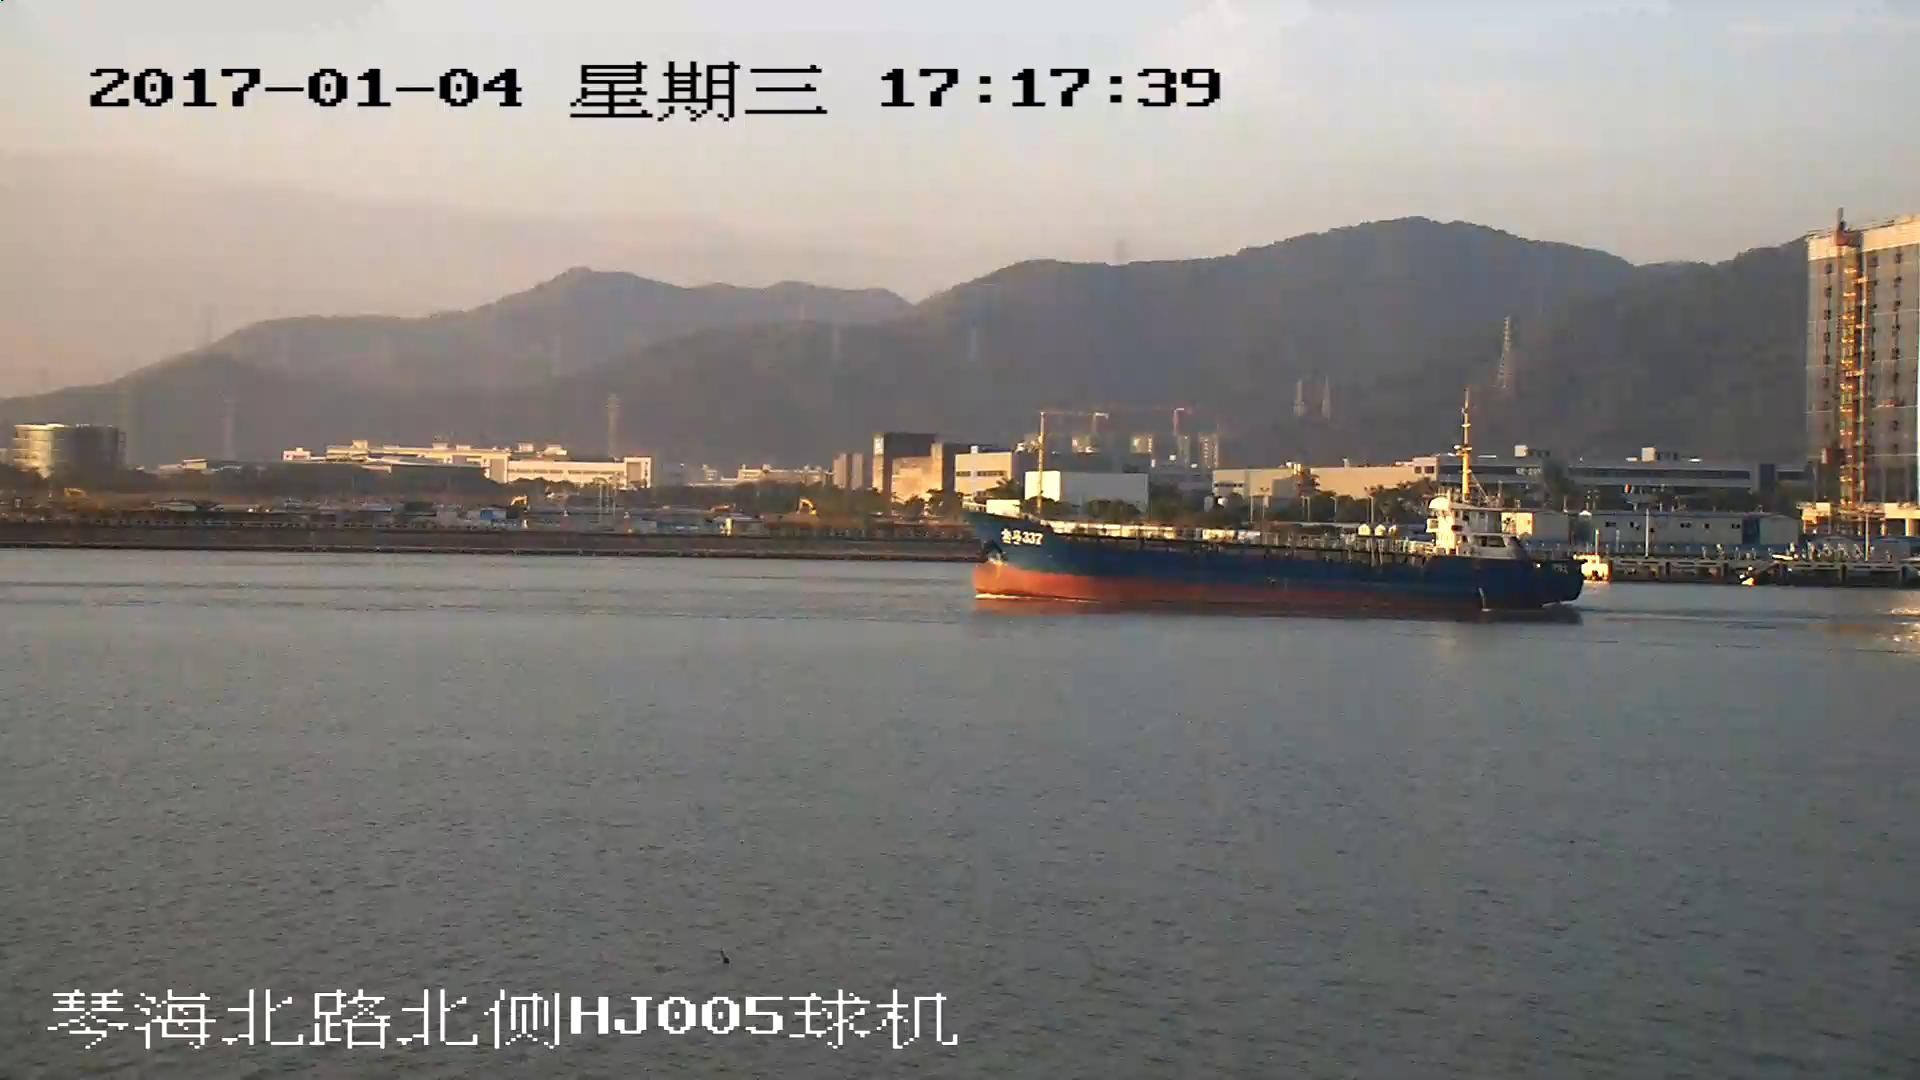Ship: (961, 409, 1584, 616)
